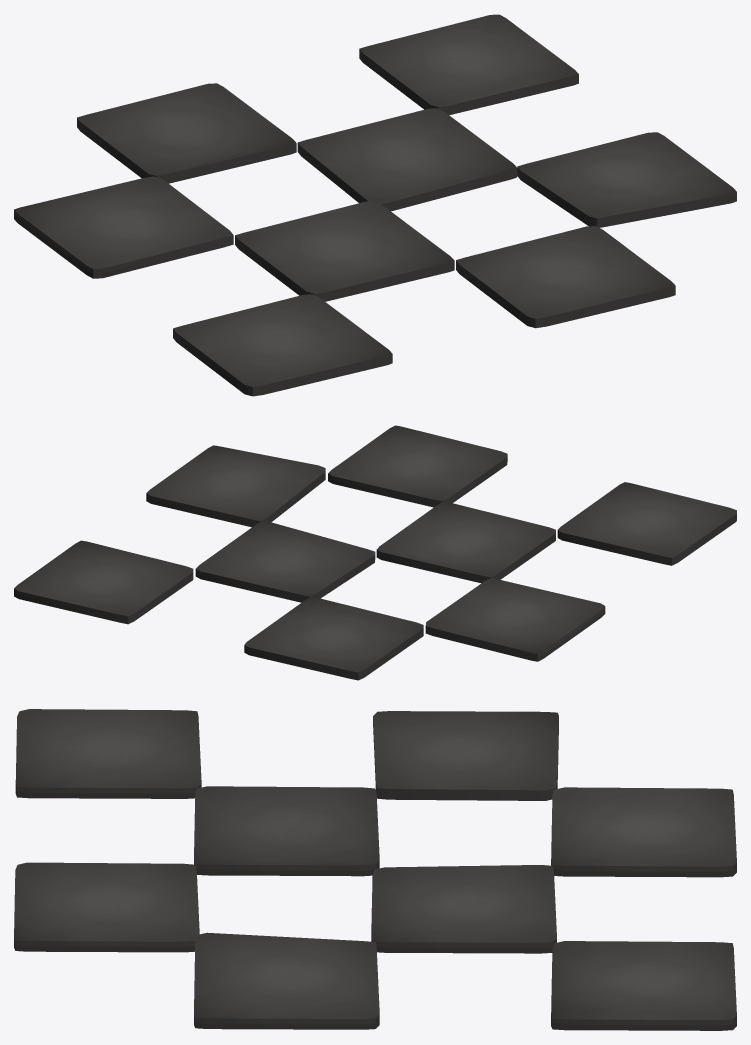
File: tile_group.fbx
The picture shows the model from 3 angles, top to bottom: view 1: azimuth 30°, elevation 25°; view 2: azimuth 150°, elevation 25°; view 3: azimuth 270°, elevation 25°; orthographic projection. The views are drawn at different scales.
Visible parts, largest first — view 1: Cube.026; view 2: Cube.026; view 3: Cube.026.
Part boxes in pixels (x1,y1,x2,y2): Cube.026: (14,14,736,396); Cube.026: (14,425,736,680); Cube.026: (14,709,736,1030).
Size of the model in its own units: 231 by 227 by 7.93.
